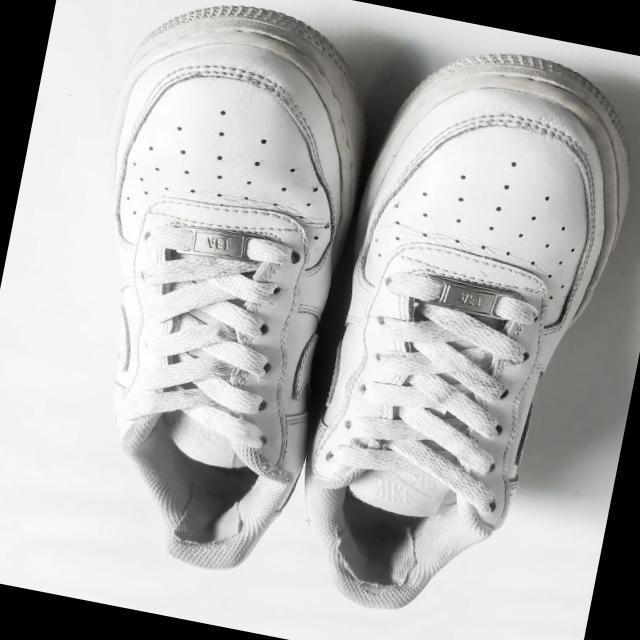nike fake air force: (283, 21, 640, 632), (33, 0, 387, 582)
